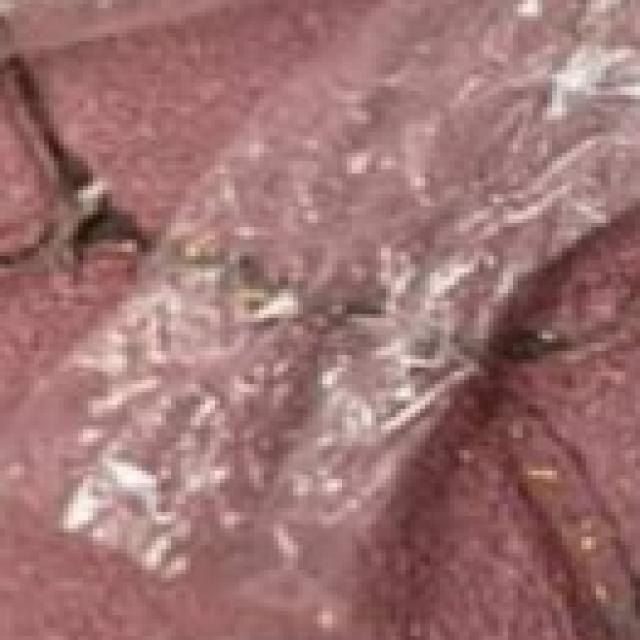plastic bag: (17, 0, 640, 617)
